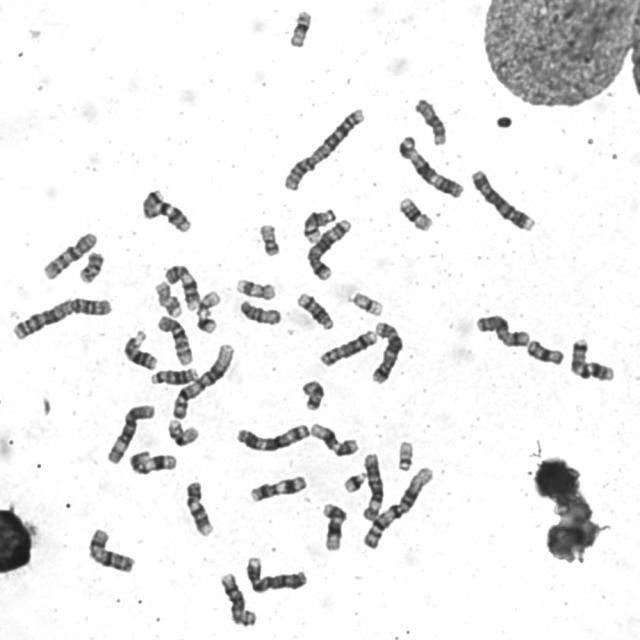A1: (361, 465, 436, 552), (171, 342, 236, 420)
A2: (282, 106, 368, 192), (11, 294, 115, 342)
A3: (394, 133, 466, 200), (235, 422, 310, 452)
B4: (468, 166, 537, 233), (245, 554, 308, 596)
B5: (304, 218, 352, 281), (371, 322, 407, 385)
C10: (40, 231, 100, 281), (155, 313, 194, 369)
C11: (247, 471, 310, 505), (128, 449, 178, 475)
C12: (309, 421, 361, 457), (318, 501, 350, 553)
C6: (106, 402, 155, 466), (361, 451, 386, 524)
C7: (135, 186, 194, 235), (567, 335, 616, 383)
C8: (318, 329, 378, 366), (220, 571, 258, 627)
C9: (162, 264, 201, 311), (186, 480, 216, 540)
D13: (120, 329, 159, 371), (150, 365, 198, 386)
D14: (296, 290, 335, 332), (302, 206, 339, 246)
D15: (413, 97, 448, 148), (239, 300, 284, 327)
E16: (395, 195, 436, 234), (166, 416, 200, 448)
E17: (151, 282, 183, 318), (234, 276, 277, 301)
E18: (526, 339, 565, 367), (300, 377, 327, 411)
F19: (286, 8, 313, 52), (351, 291, 386, 318)
F20: (78, 250, 107, 284), (255, 223, 283, 258)
G21: (340, 471, 367, 493), (195, 316, 219, 335)
G22: (196, 288, 222, 315), (395, 439, 416, 472)
X: (85, 524, 137, 576), (475, 310, 530, 348)
